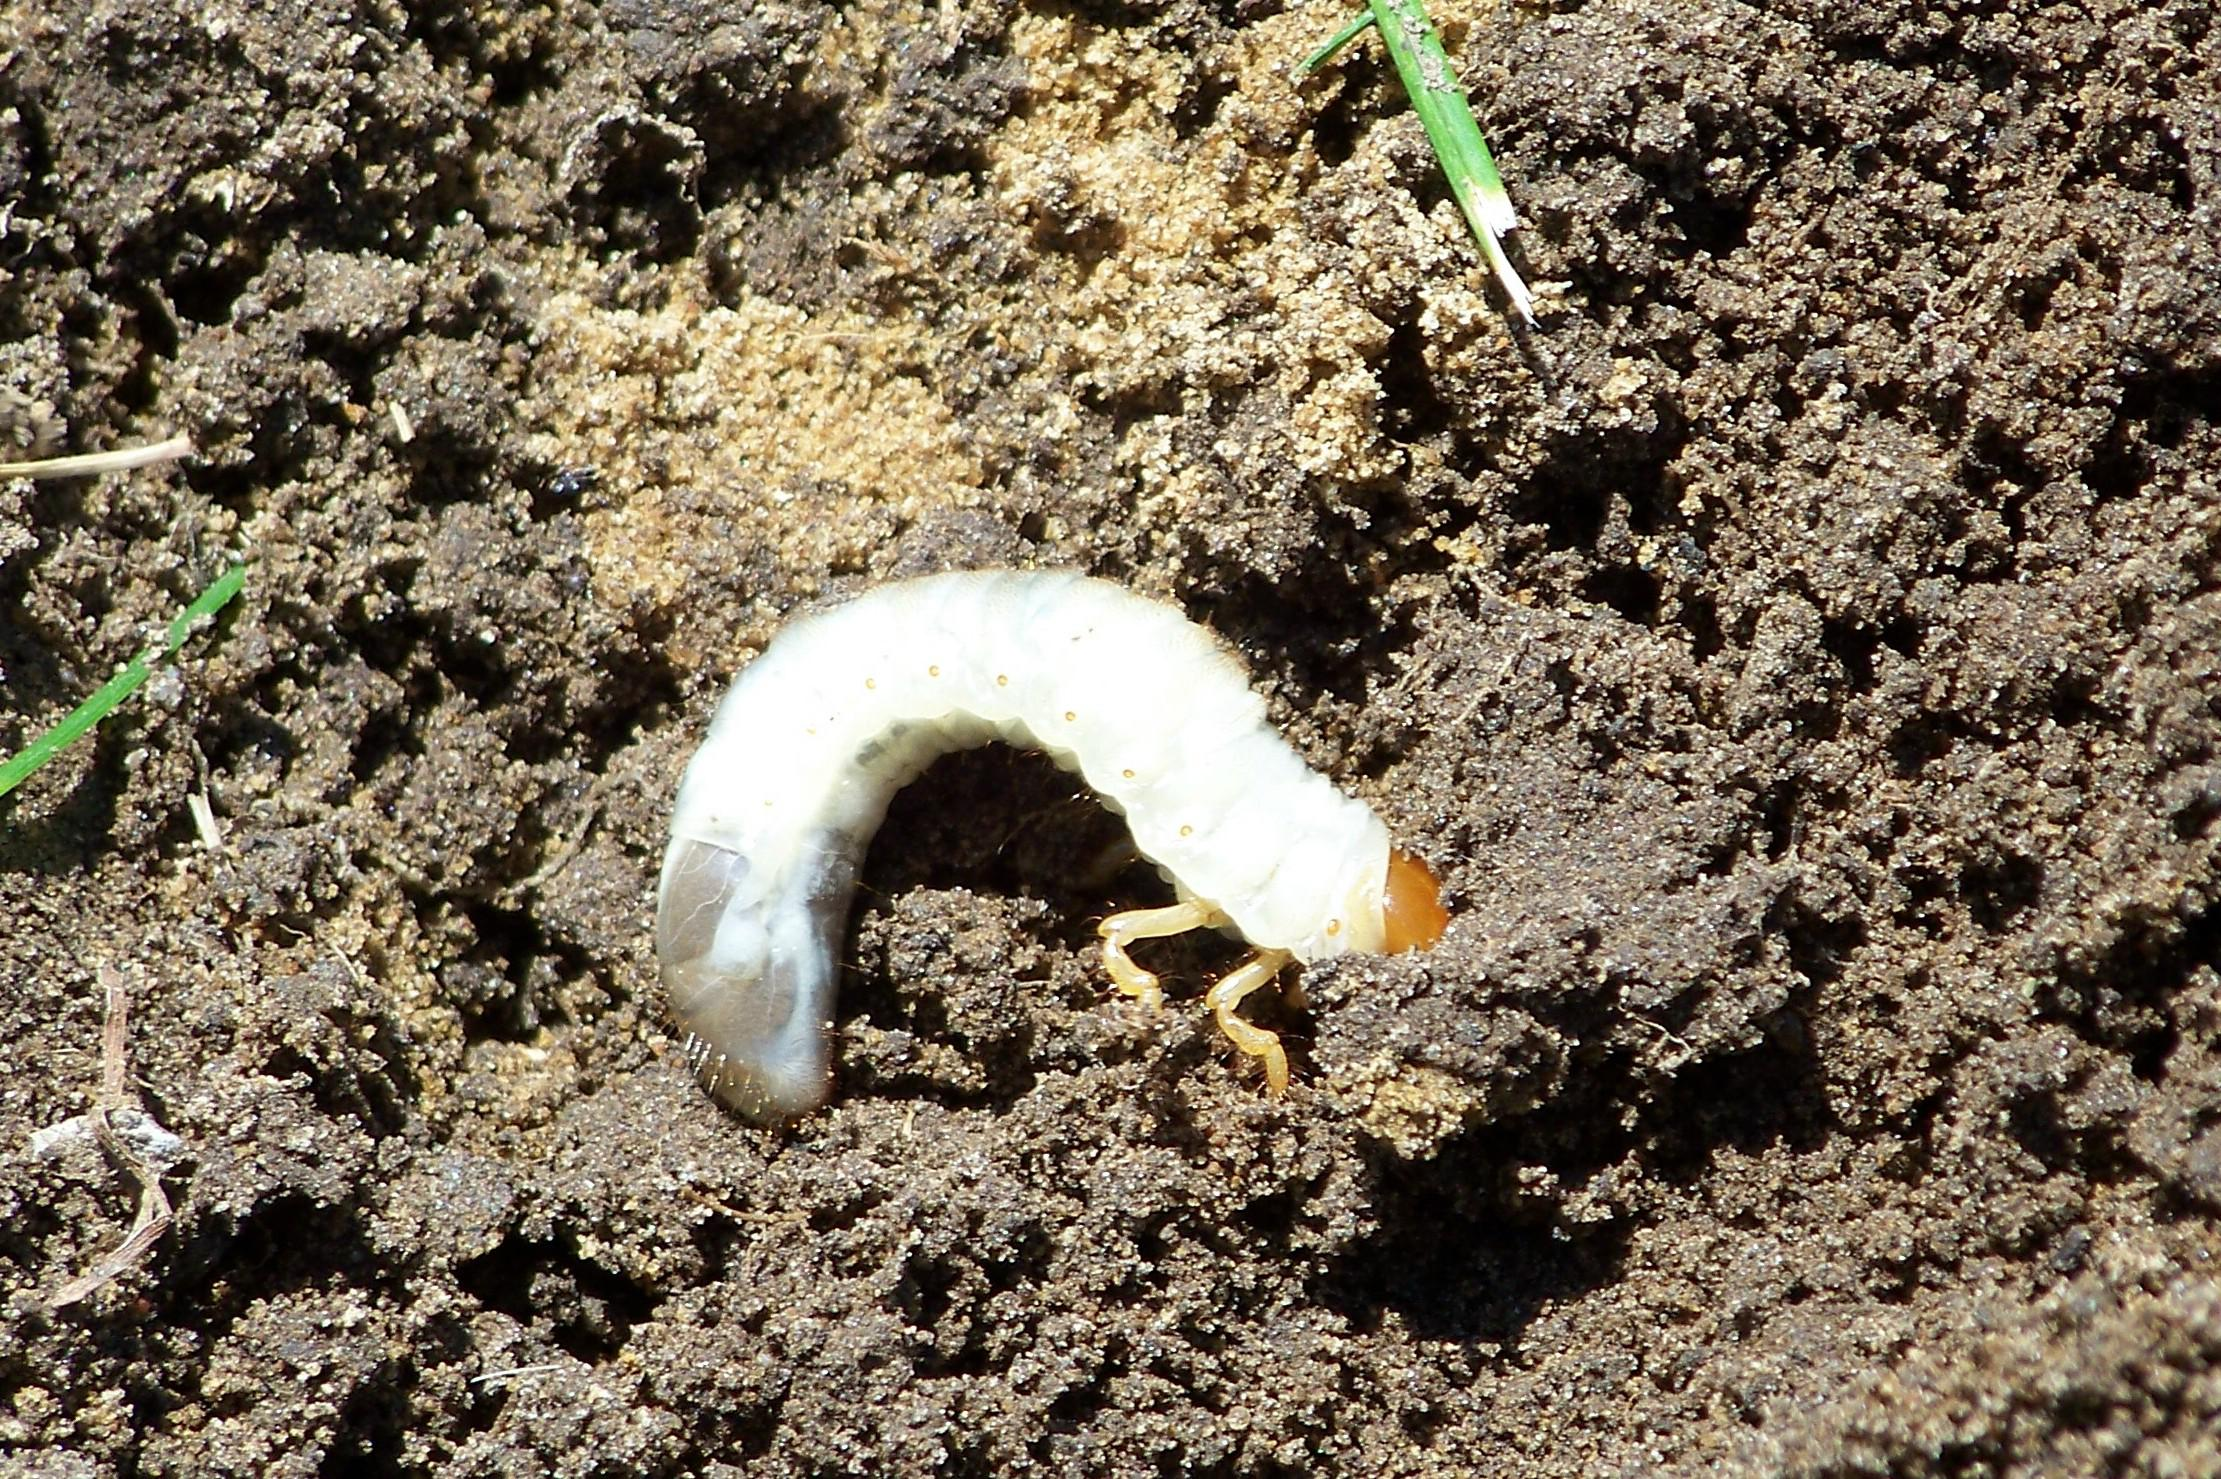grub: (602, 541, 1474, 1121)
